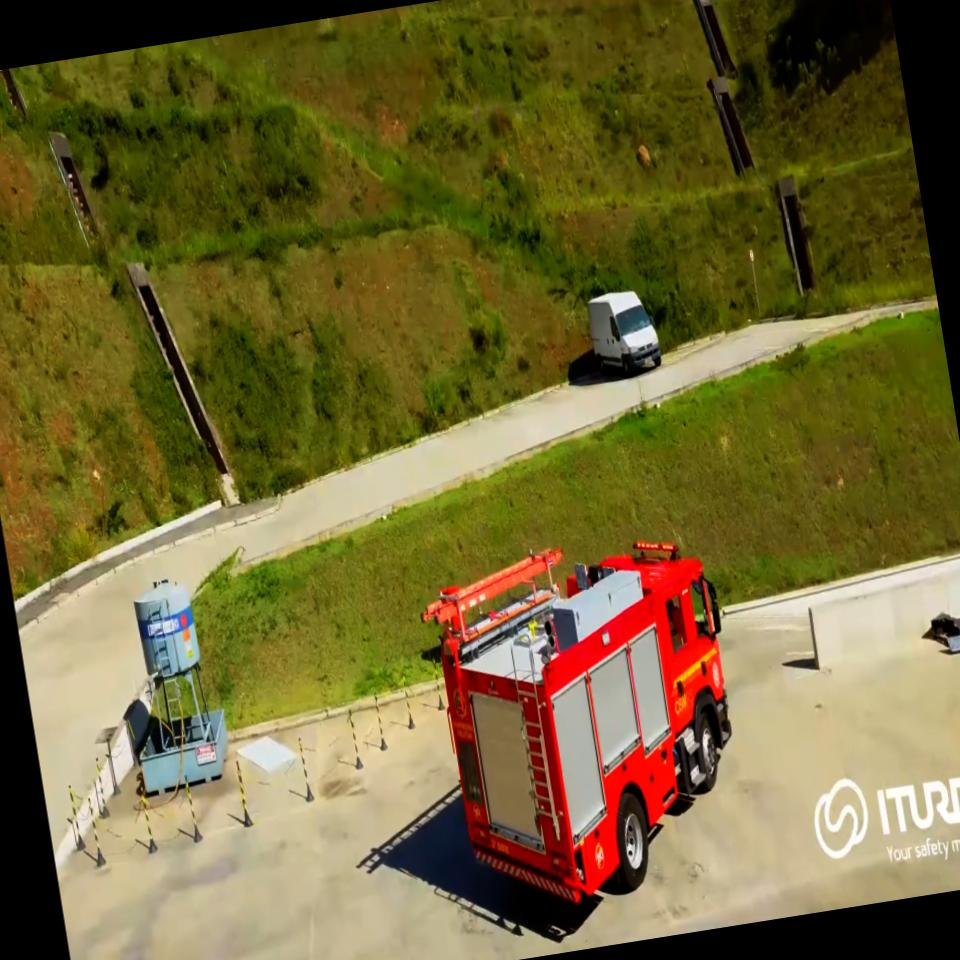viatura: (410, 514, 766, 922)
